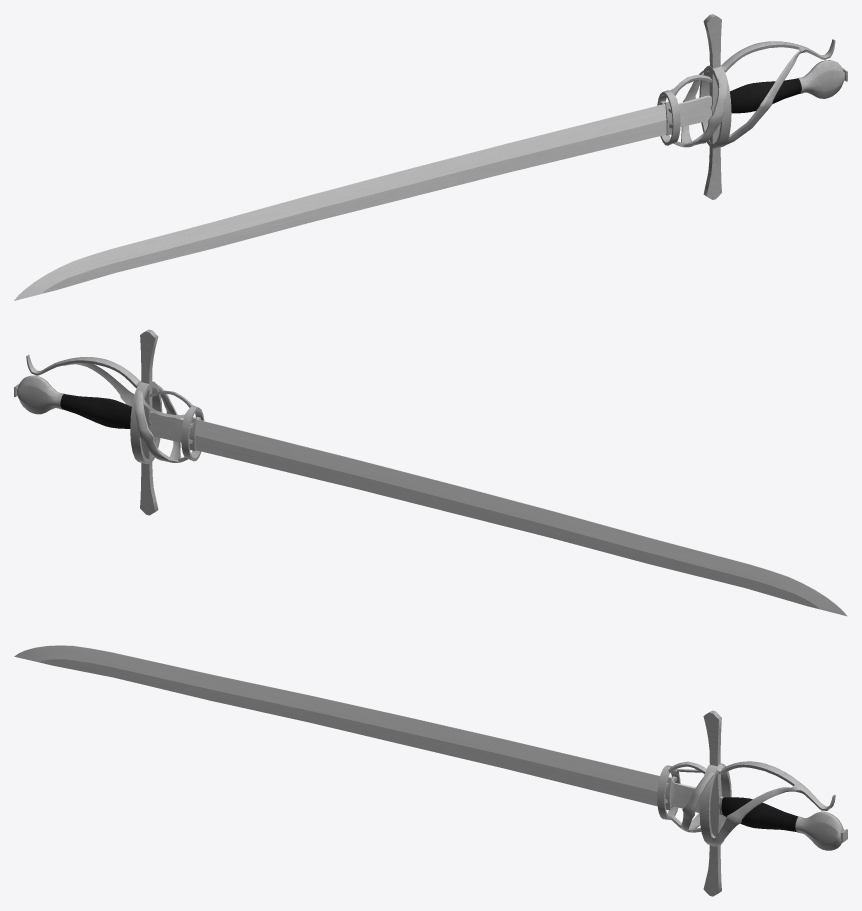
File: Sword_Test_6_7_2016.fbx
3 renders of one model, top to bottom at view 1: azimuth 30°, elevation 25°; view 2: azimuth 150°, elevation 25°; view 3: azimuth 330°, elevation 25°, orthographic.
Visible parts, largest first — view 1: Sword; view 2: Sword; view 3: Sword.
Part boxes in pixels (box(x1,y1,x2,y2)): Sword: box(14, 14, 847, 300); Sword: box(14, 329, 847, 616); Sword: box(14, 645, 847, 896).
Bounding box in the file's own units: 29.87 × 6.28 × 2.04.
4 materials, 4 textured.
